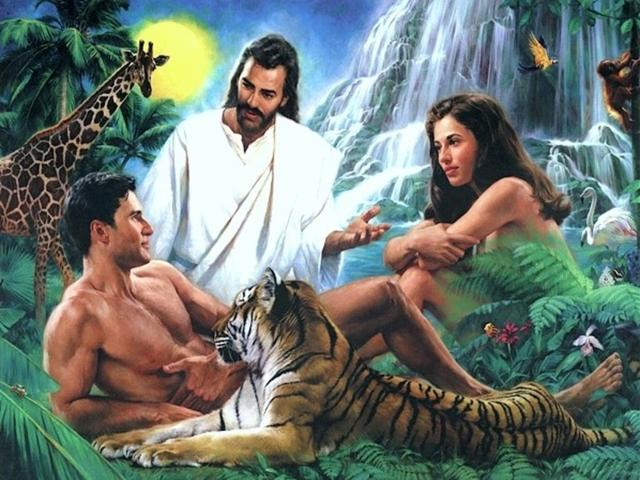giraffe: (1, 49, 176, 268)
tiger: (195, 272, 640, 467)
